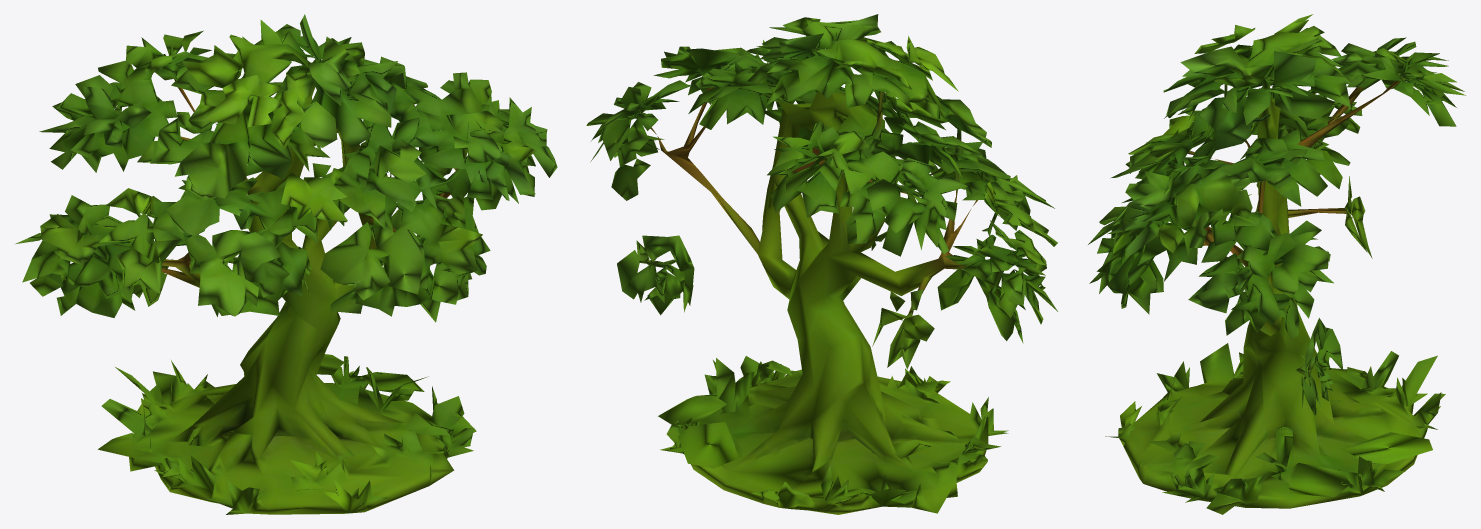
The model's file is mulberry_lo.glb.
3 views of the same model, side by side, from view 1: azimuth 30°, elevation 25°; view 2: azimuth 150°, elevation 25°; view 3: azimuth 270°, elevation 25° (orthographic). The views are drawn at different scales.
Visible parts, largest first — view 1: tripo_node_aaaf4d65-dc5f-44b6-bb8e-cd37d8e47e1b; view 2: tripo_node_aaaf4d65-dc5f-44b6-bb8e-cd37d8e47e1b; view 3: tripo_node_aaaf4d65-dc5f-44b6-bb8e-cd37d8e47e1b.
Boxes of the visible parts, x1,y1,x2,y2 form: tripo_node_aaaf4d65-dc5f-44b6-bb8e-cd37d8e47e1b: (15,14,557,514); tripo_node_aaaf4d65-dc5f-44b6-bb8e-cd37d8e47e1b: (586,14,1057,514); tripo_node_aaaf4d65-dc5f-44b6-bb8e-cd37d8e47e1b: (1088,14,1465,514).
Bounding box in the file's own units: 0.9958 × 0.8087 × 0.682.
Materials: 1 (1 with a texture image).
